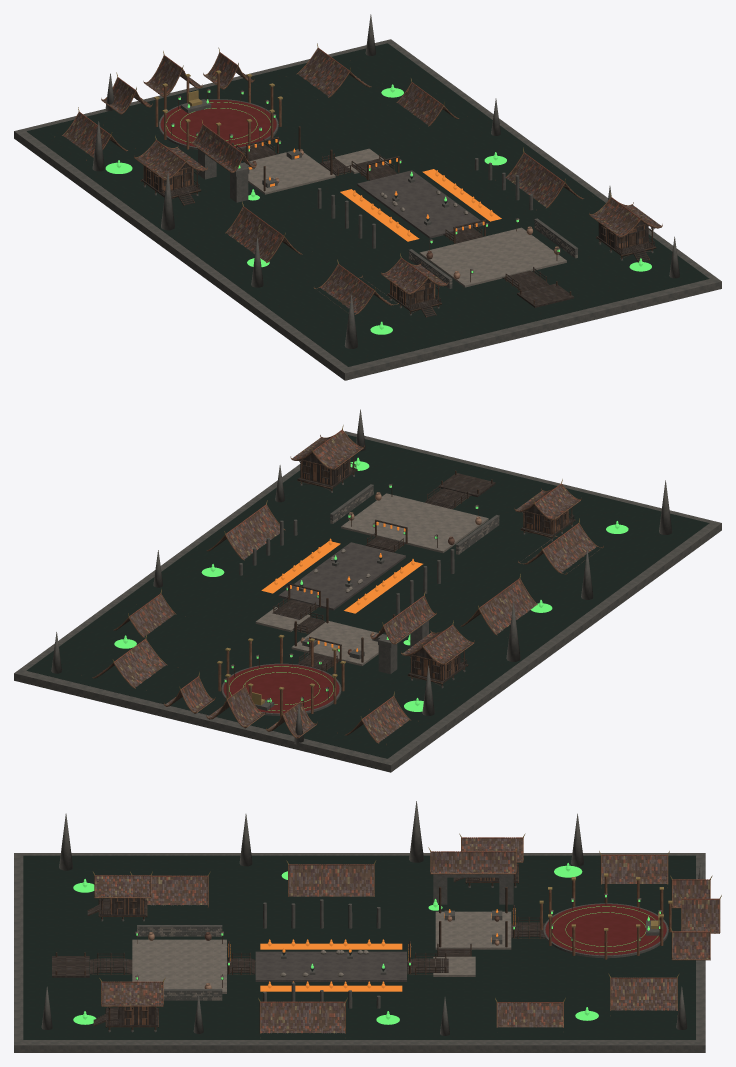
Rendered from dg-pret.glb.
3 views of the same model, one above another, from view 1: azimuth 30°, elevation 25°; view 2: azimuth 150°, elevation 25°; view 3: azimuth 270°, elevation 25° (orthographic). The views are drawn at different scales.
Parts seen in each view (by area): view 1: Water surface | water_abyss, Dungeon foundation | stone_dark, Roof / closed timber underlay | roof_under, Roof / overlapping clay tiles | roof_ash, Courtyard flagstones | stone_ash, Under-house packed earth | earth_ash, Throne hall floor | cloth_blood, Roof / overlapping clay tiles | roof_dark, Underworld rock spires | stone_dark, Roof / overlapping clay tiles | tile_dark, Kitchen floor | stone_ash, Bridge / separate deck boards | wood_charred (+12 smaller); view 2: Water surface | water_abyss, Dungeon foundation | stone_dark, Roof / closed timber underlay | roof_under, Roof / overlapping clay tiles | roof_ash, Courtyard flagstones | stone_ash, Under-house packed earth | earth_ash, Throne hall floor | cloth_blood, Roof / overlapping clay tiles | roof_dark, Underworld rock spires | stone_dark, Roof / overlapping clay tiles | tile_dark, Bridge / separate deck boards | wood_charred, Kitchen floor | stone_ash (+15 smaller); view 3: Water surface | water_abyss, Dungeon foundation | stone_dark, Roof / closed timber underlay | roof_under, Roof / overlapping clay tiles | roof_ash, Roof / overlapping clay tiles | roof_dark, Courtyard flagstones | stone_ash, Throne hall floor | cloth_blood, Under-house packed earth | earth_ash, Roof / overlapping clay tiles | tile_dark, Underworld rock spires | stone_dark, Kitchen floor | stone_ash, Bridge / separate deck boards | wood_charred (+19 smaller).
Part boxes in pixels (left/top/right/bottom): Water surface | water_abyss: left=27, top=43, right=709, bottom=366; Dungeon foundation | stone_dark: left=14, top=39, right=721, bottom=380; Roof / closed timber underlay | roof_under: left=64, top=50, right=660, bottom=313; Roof / overlapping clay tiles | roof_ash: left=66, top=49, right=659, bottom=313; Courtyard flagstones | stone_ash: left=419, top=227, right=566, bottom=287; Under-house packed earth | earth_ash: left=357, top=170, right=483, bottom=238; Throne hall floor | cloth_blood: left=160, top=100, right=276, bottom=147; Roof / overlapping clay tiles | roof_dark: left=63, top=52, right=660, bottom=310; Underworld rock spires | stone_dark: left=92, top=14, right=679, bottom=348; Roof / overlapping clay tiles | tile_dark: left=64, top=55, right=652, bottom=312; Kitchen floor | stone_ash: left=248, top=149, right=335, bottom=194; Bridge / separate deck boards | wood_charred: left=238, top=143, right=548, bottom=291; Water surface | water_abyss: left=26, top=435, right=709, bottom=758; Dungeon foundation | stone_dark: left=14, top=431, right=721, bottom=772; Roof / closed timber underlay | roof_under: left=99, top=433, right=596, bottom=741; Roof / overlapping clay tiles | roof_ash: left=95, top=433, right=595, bottom=740; Courtyard flagstones | stone_ash: left=341, top=493, right=488, bottom=552; Under-house packed earth | earth_ash: left=278, top=542, right=405, bottom=610; Throne hall floor | cloth_blood: left=223, top=664, right=339, bottom=713; Roof / overlapping clay tiles | roof_dark: left=96, top=435, right=592, bottom=742; Underworld rock spires | stone_dark: left=51, top=409, right=672, bottom=744; Roof / overlapping clay tiles | tile_dark: left=97, top=431, right=594, bottom=742; Bridge / separate deck boards | wood_charred: left=272, top=488, right=471, bottom=671; Kitchen floor | stone_ash: left=291, top=621, right=378, bottom=665; Water surface | water_abyss: left=23, top=855, right=695, bottom=1039; Dungeon foundation | stone_dark: left=14, top=853, right=705, bottom=1052; Roof / closed timber underlay | roof_under: left=95, top=838, right=719, bottom=1032; Roof / overlapping clay tiles | roof_ash: left=95, top=838, right=719, bottom=1033; Roof / overlapping clay tiles | roof_dark: left=95, top=838, right=719, bottom=1033; Courtyard flagstones | stone_ash: left=132, top=939, right=226, bottom=993; Throne hall floor | cloth_blood: left=545, top=904, right=666, bottom=955; Under-house packed earth | earth_ash: left=255, top=951, right=406, bottom=981; Roof / overlapping clay tiles | tile_dark: left=95, top=838, right=719, bottom=1033; Underworld rock spires | stone_dark: left=41, top=801, right=702, bottom=1035; Kitchen floor | stone_ash: left=435, top=911, right=511, bottom=949; Bridge / separate deck boards | wood_charred: left=90, top=922, right=545, bottom=974.
Bounding box in the file's own units: 96 × 15.75 × 149.
19 materials, 19 textured.
